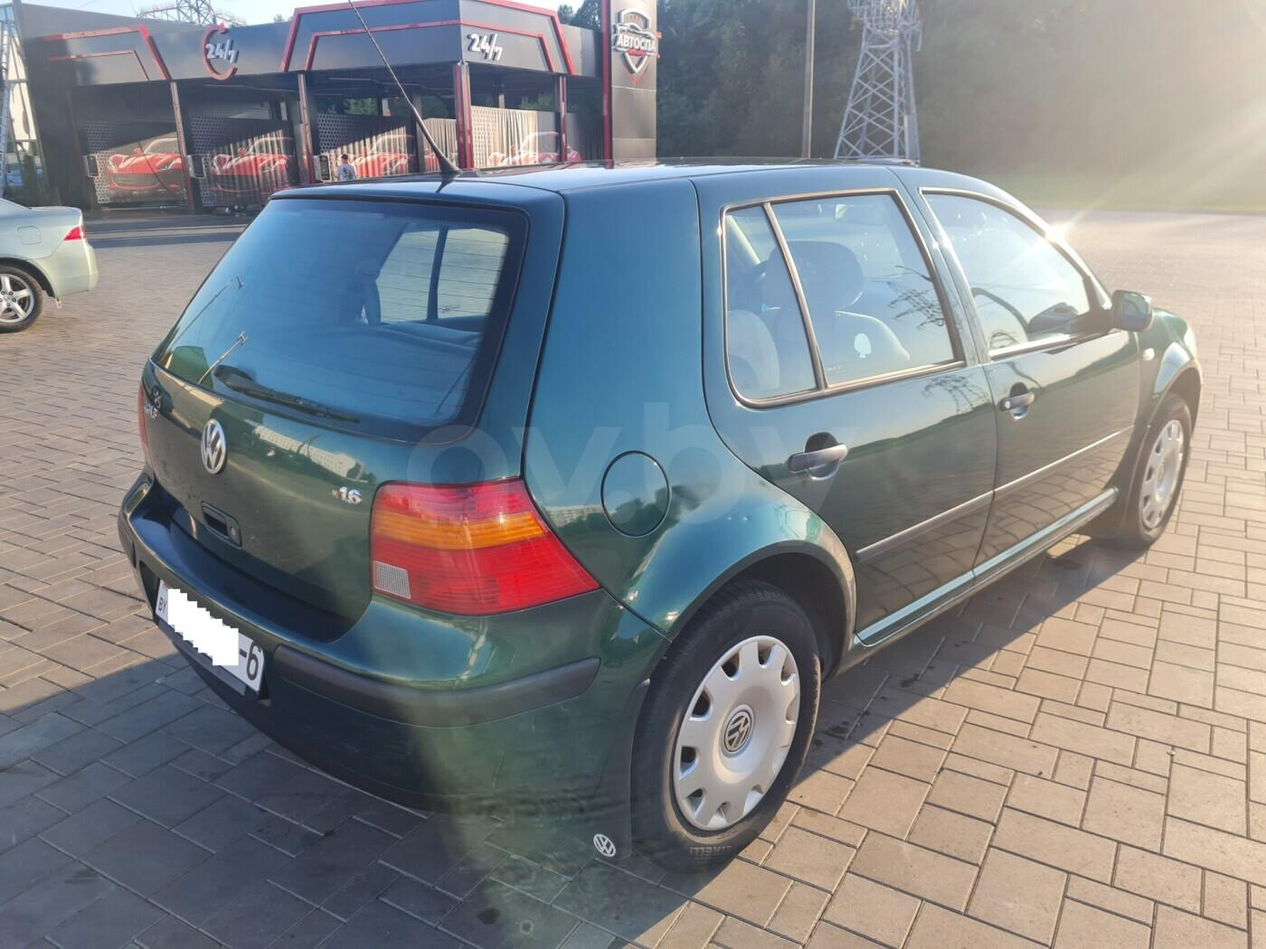Golf_1997-2006: (103, 151, 1213, 853)
